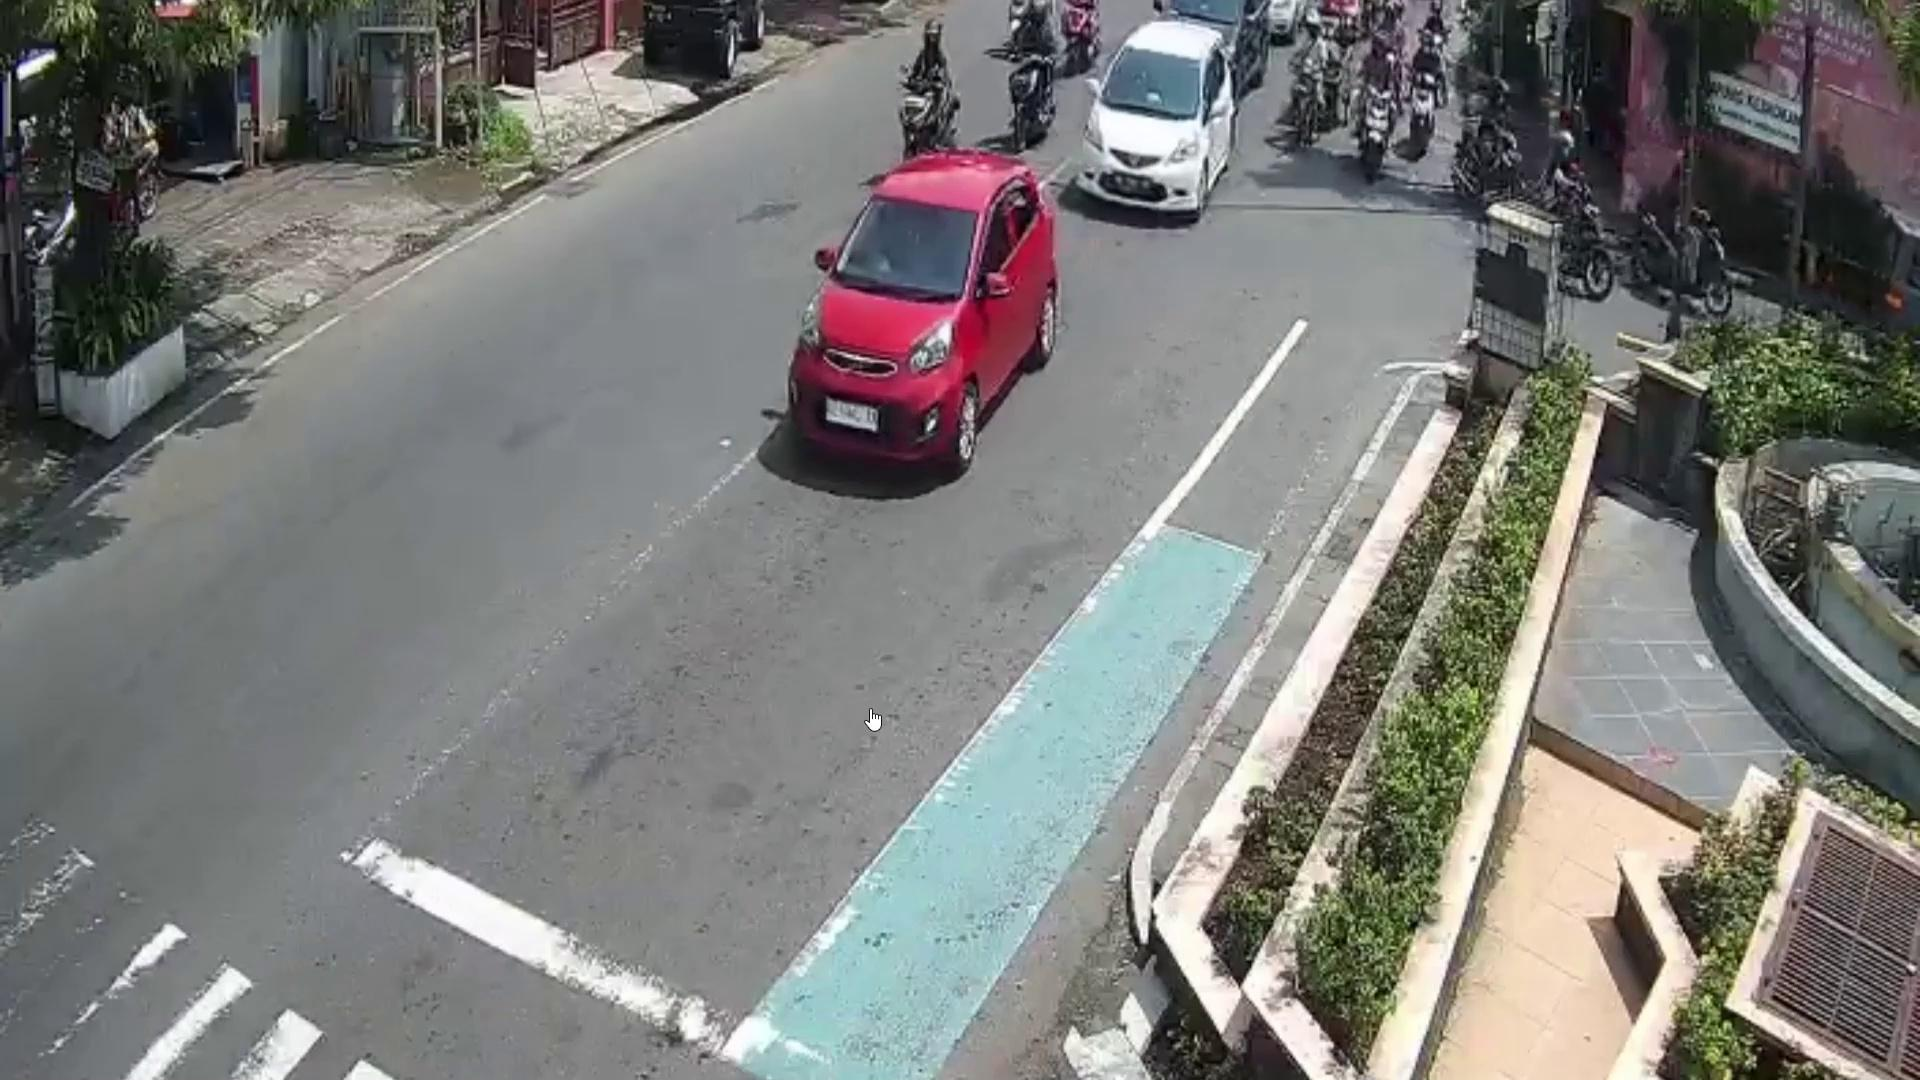car: (783, 148, 1060, 487), (1080, 13, 1237, 232)
motorbike: (1638, 202, 1735, 314), (1531, 178, 1609, 302), (1465, 131, 1539, 232), (895, 63, 957, 166), (1303, 67, 1338, 165), (1407, 67, 1441, 157), (1366, 82, 1390, 179)
